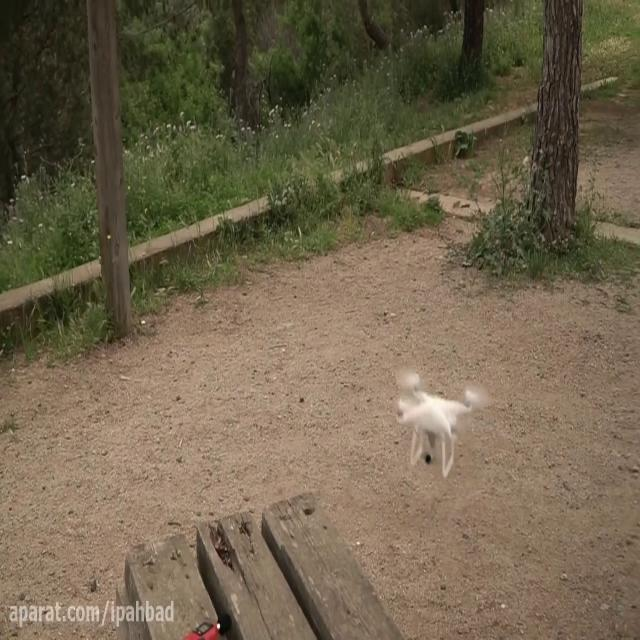drone: (392, 363, 495, 478)
